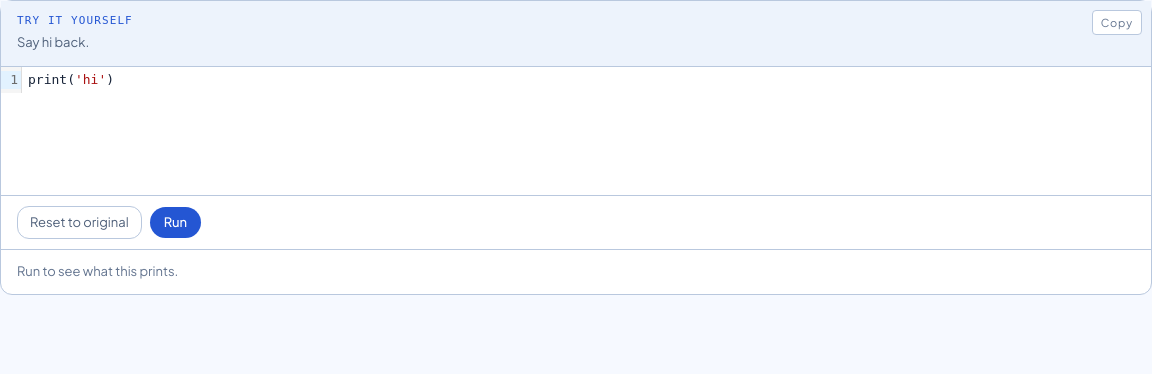
Test: Playground › shows stderr distinctly and does not claim a match when the run errored
The width and height of the screenshot is (1152, 374).
Click the button "Run": (175, 222) [150, 206, 201, 238]
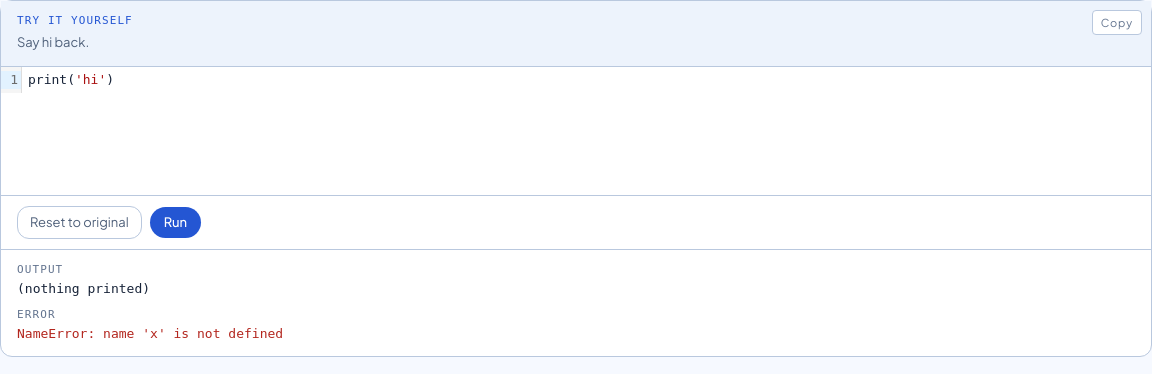
Expected: the text "NameError: name 'x' is not defined" is shown, [17, 326, 283, 341]
